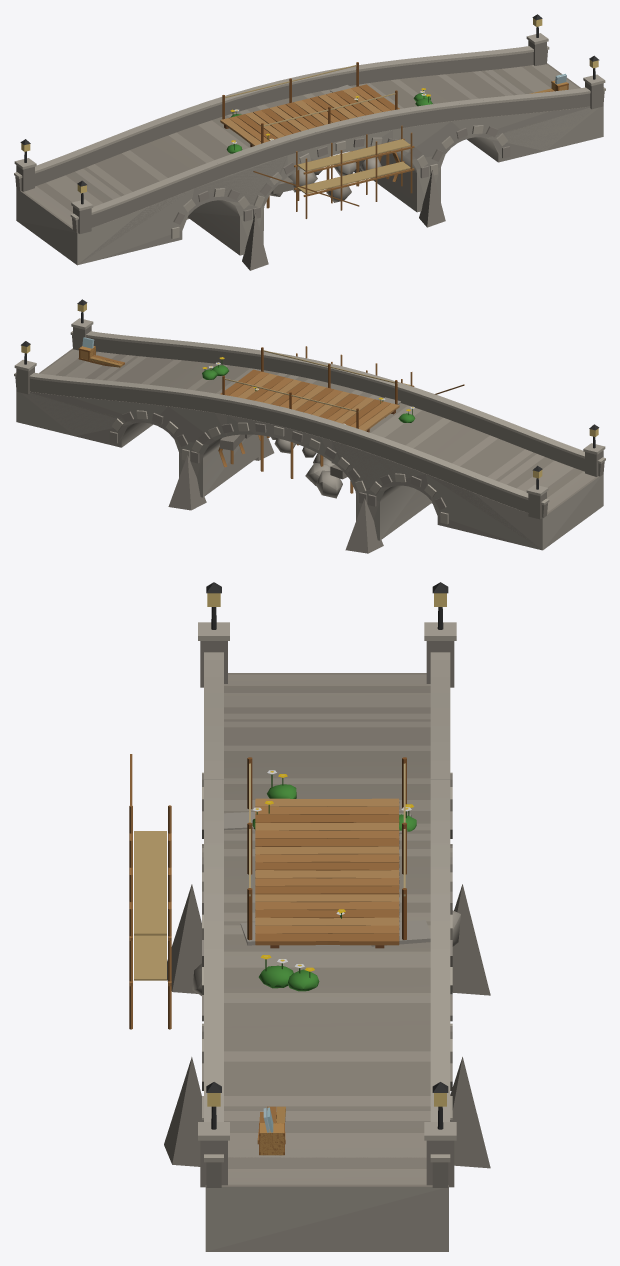
The model's file is stone_bridge.glb.
3 renders of one model, top to bottom at view 1: azimuth 30°, elevation 25°; view 2: azimuth 150°, elevation 25°; view 3: azimuth 270°, elevation 25°, orthographic. The views are drawn at different scales.
Visible parts, largest first — view 1: restore-stone_bridge-4, restore-stone_bridge-0, restore-stone_bridge-1, restore-stone_bridge-3, restore-stone_bridge-2; view 2: restore-stone_bridge-0, restore-stone_bridge-4, restore-stone_bridge-1, restore-stone_bridge-2, restore-stone_bridge-3; view 3: restore-stone_bridge-4, restore-stone_bridge-0, restore-stone_bridge-1, restore-stone_bridge-2, restore-stone_bridge-3.
Boxes of the visible parts, bbox=[...] form: restore-stone_bridge-4: bbox=[14, 14, 603, 270]; restore-stone_bridge-0: bbox=[14, 33, 604, 265]; restore-stone_bridge-1: bbox=[14, 33, 605, 264]; restore-stone_bridge-3: bbox=[228, 74, 552, 153]; restore-stone_bridge-2: bbox=[82, 72, 554, 187]; restore-stone_bridge-0: bbox=[14, 318, 605, 550]; restore-stone_bridge-4: bbox=[15, 299, 605, 553]; restore-stone_bridge-1: bbox=[16, 318, 604, 552]; restore-stone_bridge-2: bbox=[93, 355, 511, 477]; restore-stone_bridge-3: bbox=[90, 356, 399, 427]; restore-stone_bridge-4: bbox=[164, 582, 490, 1251]; restore-stone_bridge-0: bbox=[192, 622, 460, 1251]; restore-stone_bridge-1: bbox=[129, 623, 456, 1251]; restore-stone_bridge-2: bbox=[202, 717, 452, 1143]; restore-stone_bridge-3: bbox=[255, 798, 399, 1139].
Size of the model in its own units: 22.17 by 4.92 by 6.55.
